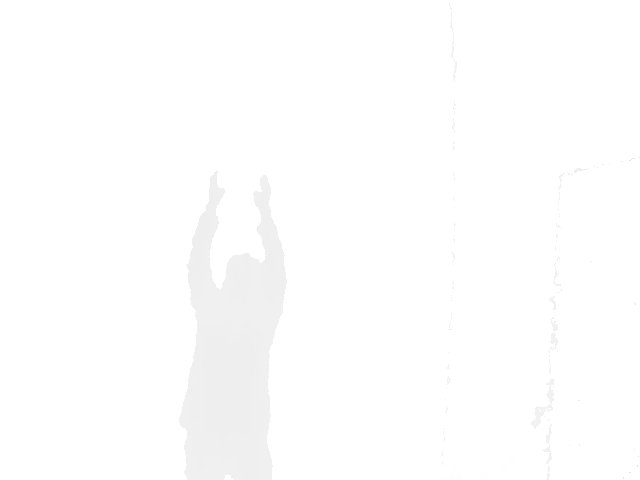hand: (252, 169, 272, 211), (207, 169, 225, 209)
head: (223, 253, 261, 297)
person: (177, 169, 289, 480)
